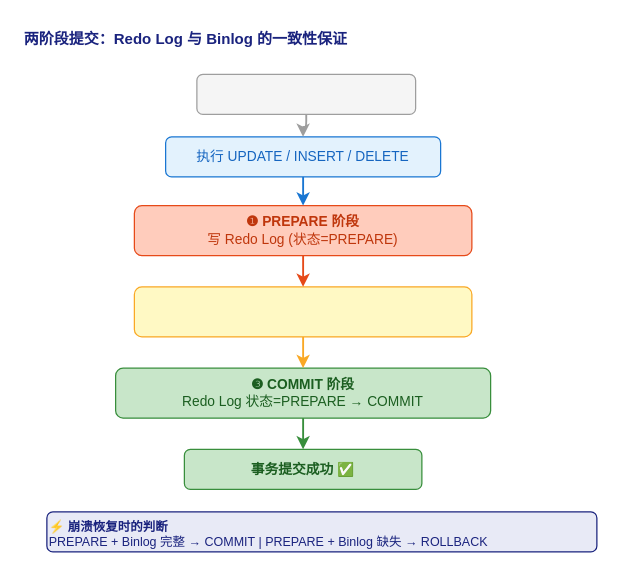
This 619x574 diagram has some shape labels left out. The centre of each missing label's shape, as x and y in pixels:
BEGIN — 事务开始: (x=306, y=93)
❷ 写 Binlog 写入该事务的所有逻辑操作: (x=302, y=311)
